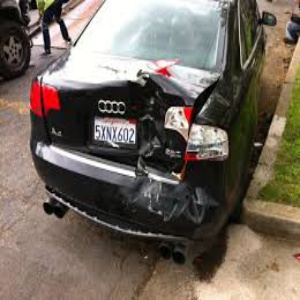bumper: (87, 66, 188, 163), (107, 171, 220, 228)
